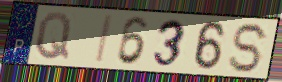3: (151, 17, 192, 69)
6: (192, 19, 228, 73), (115, 15, 151, 67)
I: (93, 13, 115, 65)
Q: (34, 11, 73, 62)
S: (227, 22, 271, 75)
